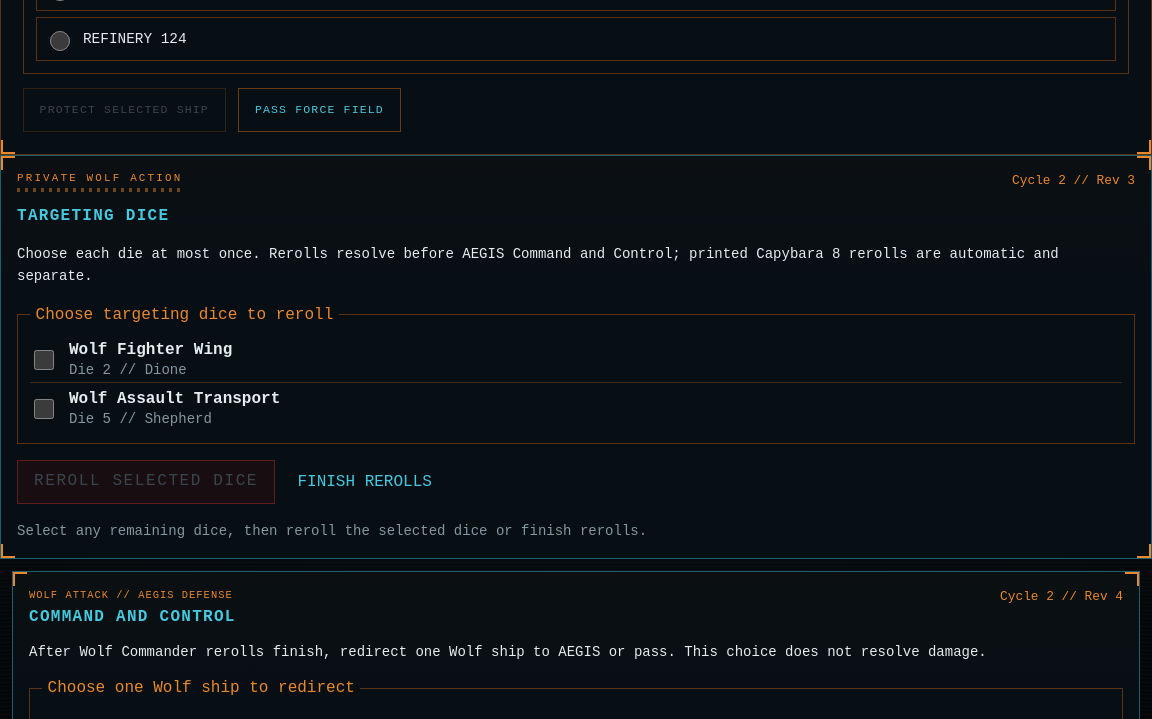
Test: uses the actual local Commander presenter for a selected reroll and explicit finish
(page scrolled)
Click the checkbox labelled "Wolf Fighter Wing Die 2 // Dione" at (44, 360), box [34,350,54,370]
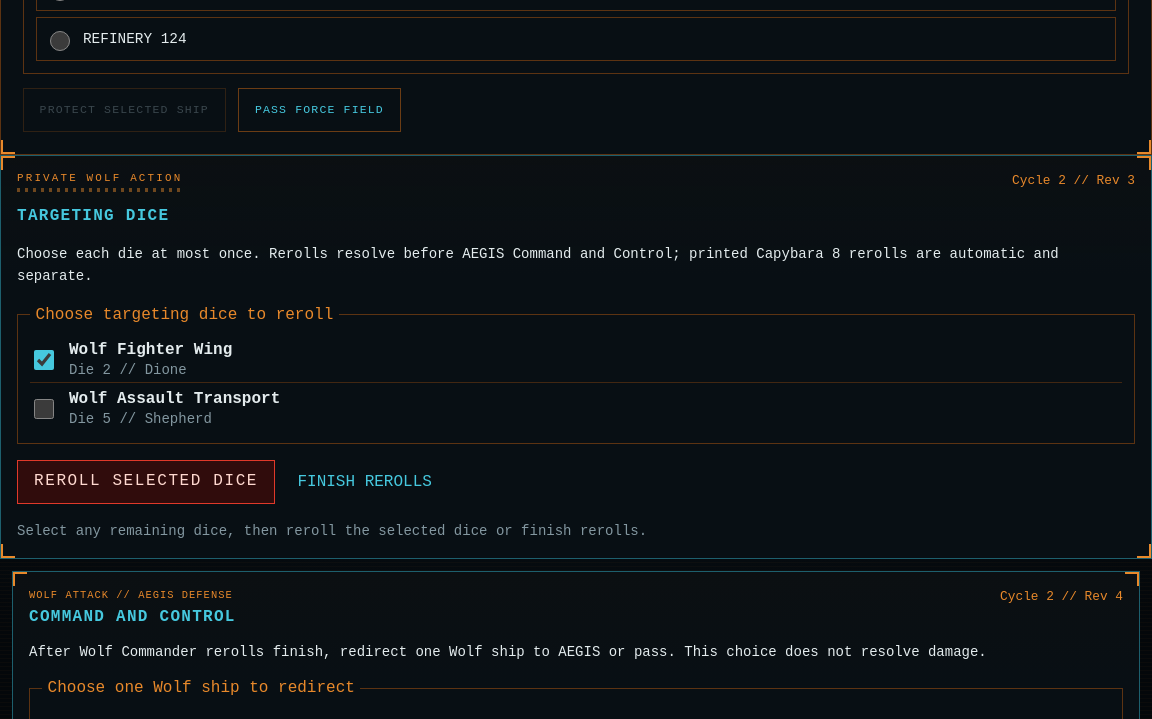
Click the button "Reroll selected dice" at (146, 482), box [17,460,275,504]
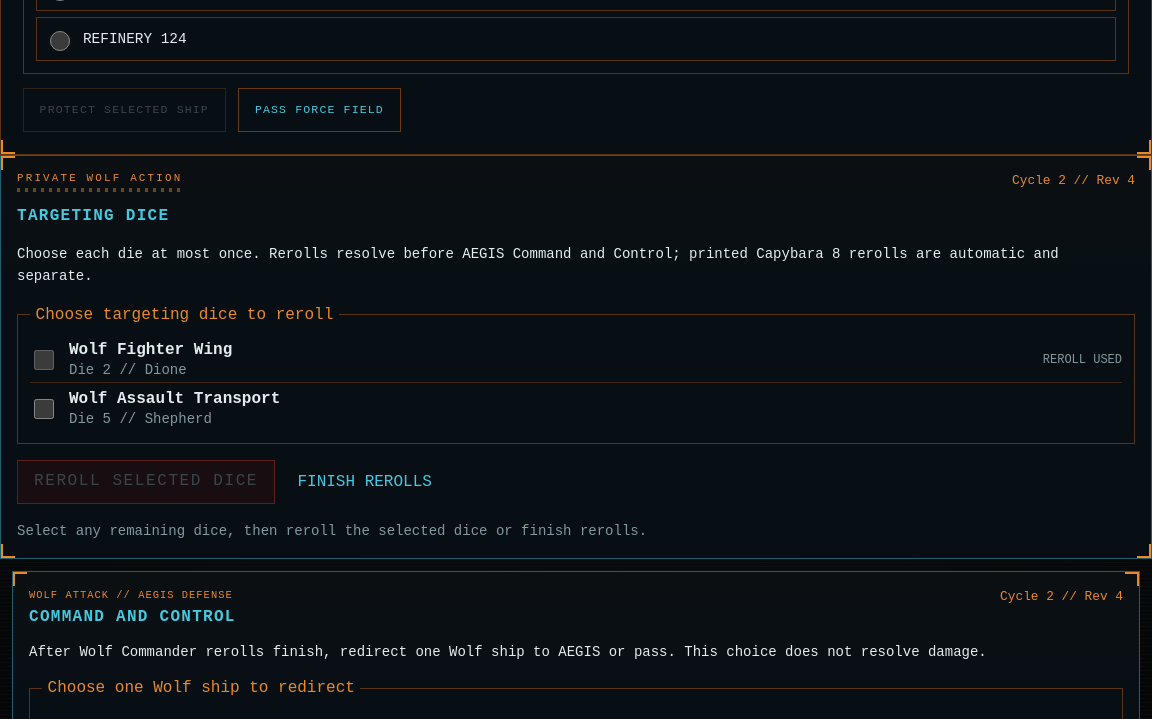
Click the button "Finish rerolls" at (365, 482), box [287,460,442,504]
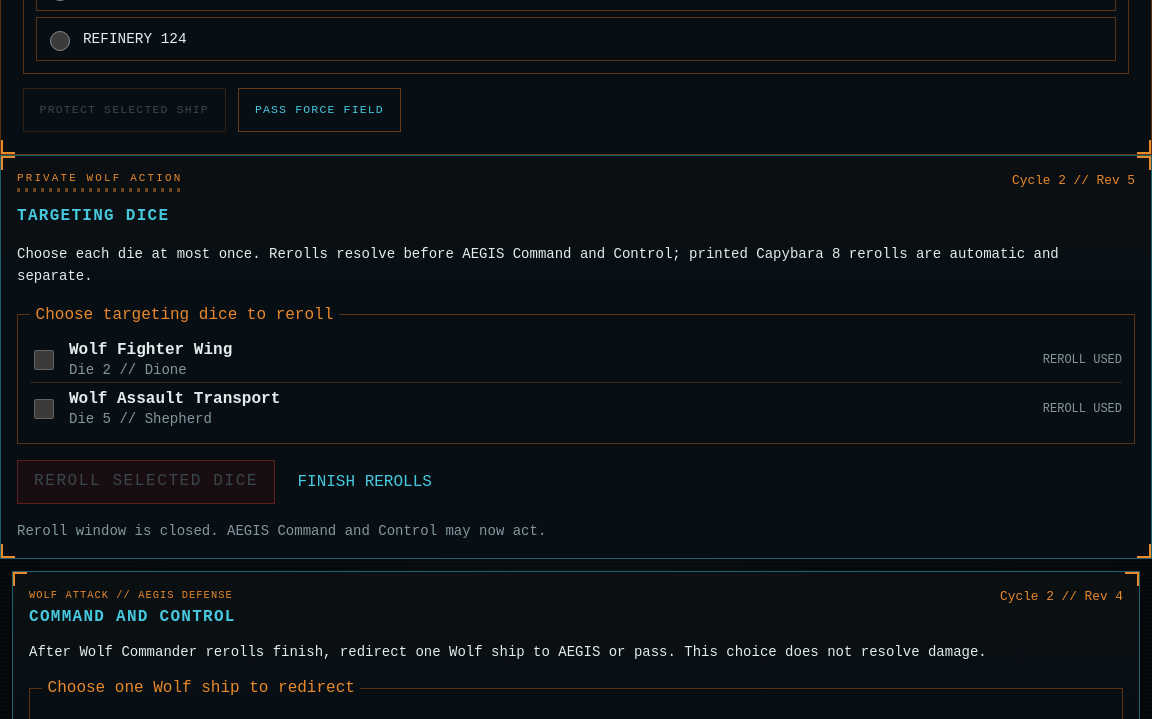
expect the element "Targeting dice" shows "Reroll window is closed": met, box [17,523,546,539]
